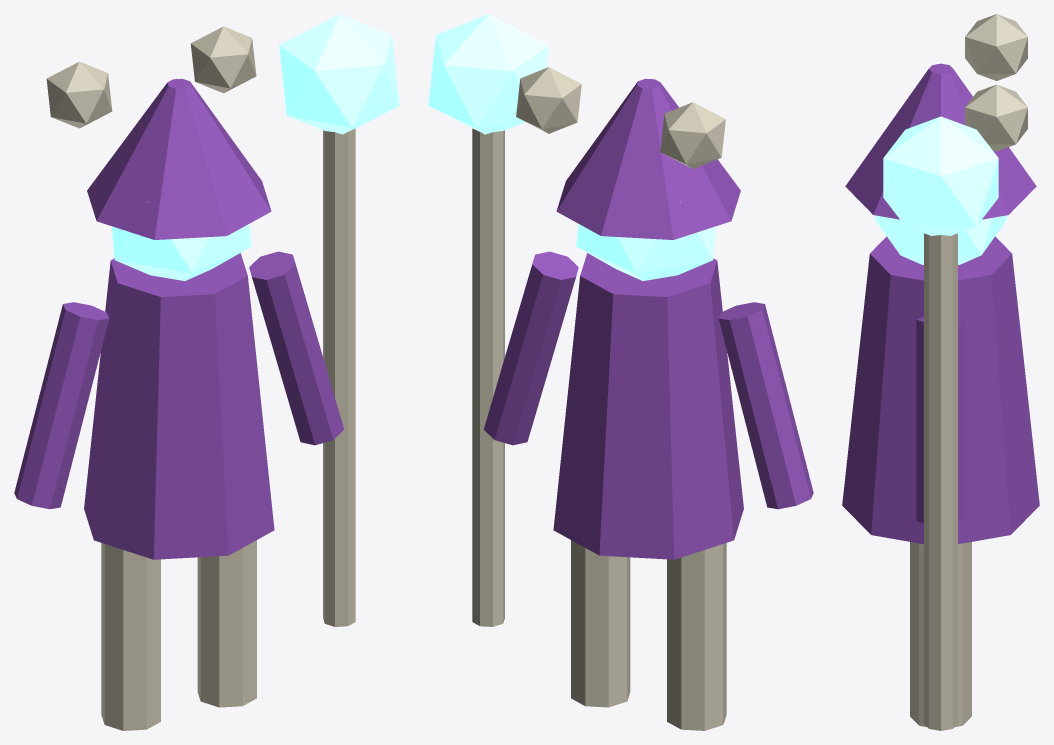
Rendered from hero_spirit_keeper.glb.
3 renders of one model, left to right at view 1: azimuth 30°, elevation 25°; view 2: azimuth 150°, elevation 25°; view 3: azimuth 270°, elevation 25°, orthographic.
Parts seen in each view (by area): view 1: hero_spirit_keeper; view 2: hero_spirit_keeper; view 3: hero_spirit_keeper.
Boxes of the visible parts, <box> form: hero_spirit_keeper: <box>14,14,399,730</box>; hero_spirit_keeper: <box>428,14,813,730</box>; hero_spirit_keeper: <box>842,14,1039,730</box>.
Bounding box in the file's own units: 1.4 × 2.34 × 0.64.
